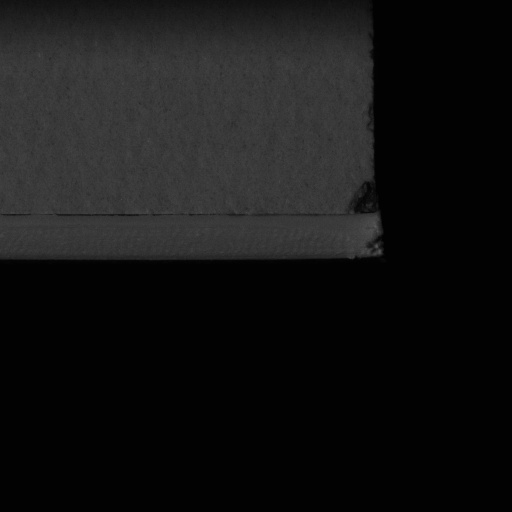bengque: (344, 180, 382, 218)
